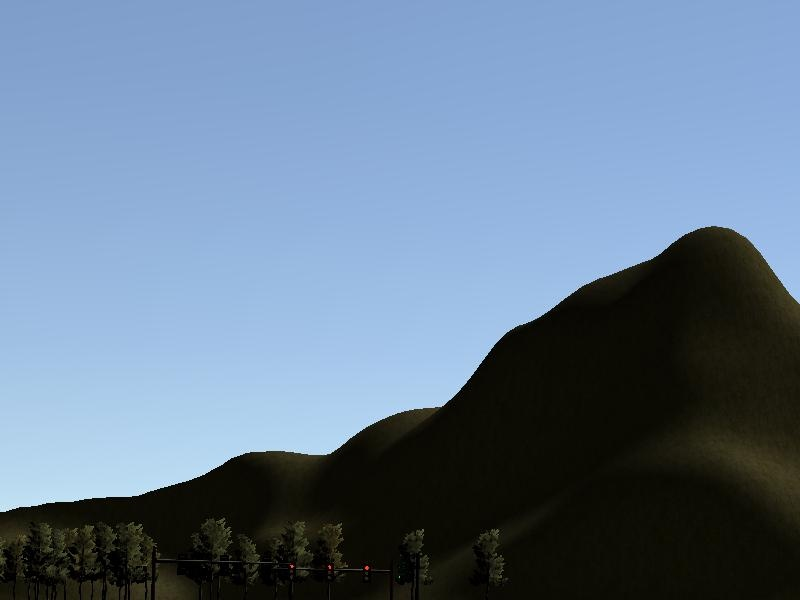RED: (286, 561, 297, 588), (361, 562, 372, 584), (325, 563, 335, 586)
